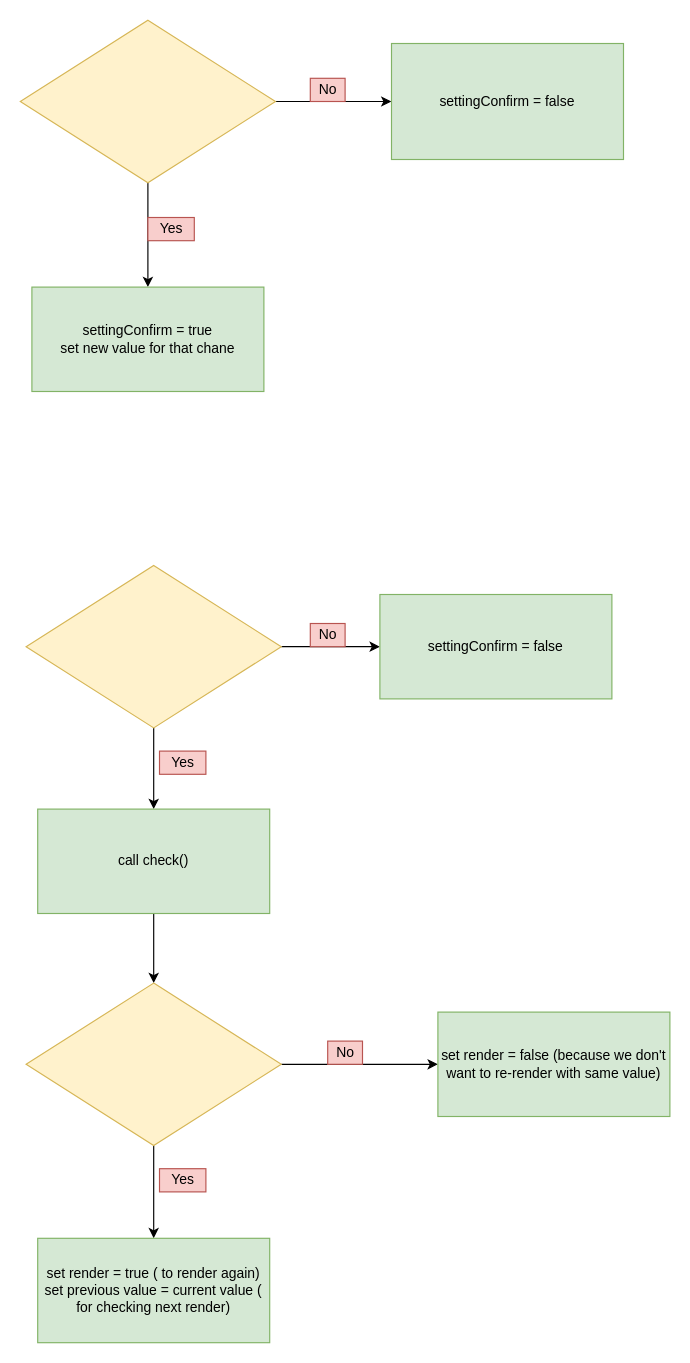
Image size: 690x1363. Some labels were removed from this diagram. Here are the shapes that lost their labels. From the top down, the centre of each, then its label:
At point 147,101: "value in setting change?".
At point 153,646: "settingConfirm change?".
At point 153,1064: "value of option current change?".
